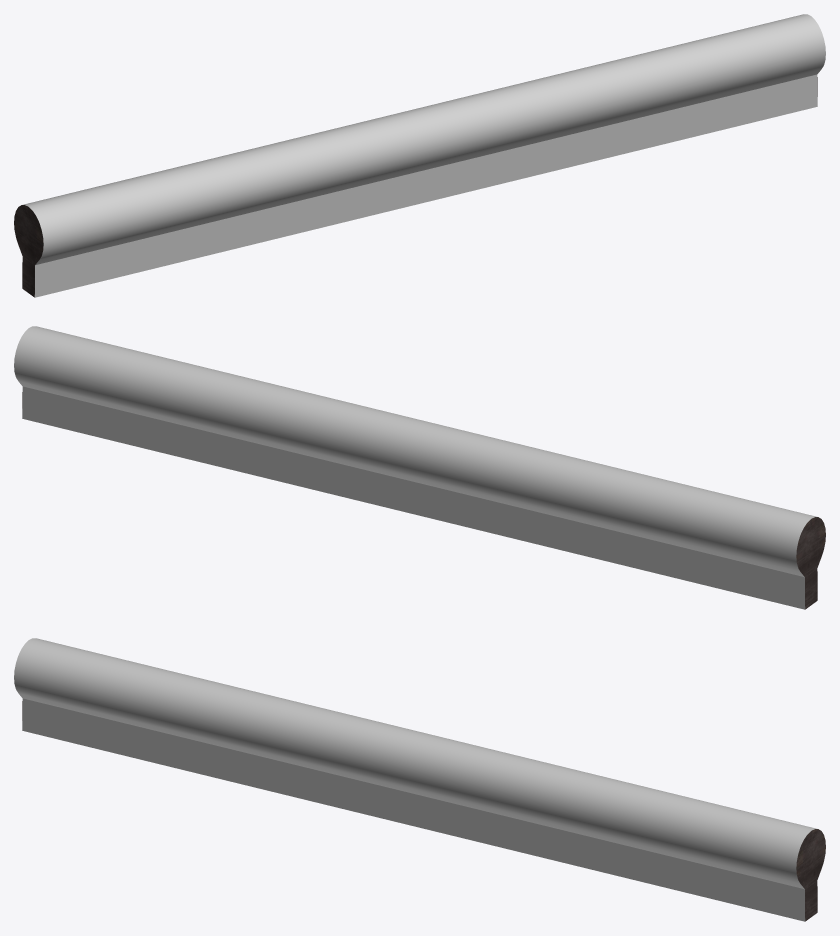
File: SM_Roof_Foundation_15.FBX
3 renders of one model, top to bottom at view 1: azimuth 30°, elevation 25°; view 2: azimuth 150°, elevation 25°; view 3: azimuth 330°, elevation 25°, orthographic.
Visible parts, largest first — view 1: SM_Roof_Foundation_15; view 2: SM_Roof_Foundation_15; view 3: SM_Roof_Foundation_15.
Part boxes in pixels (<box>): SM_Roof_Foundation_15: <box>14,14,825,297</box>; SM_Roof_Foundation_15: <box>14,326,825,609</box>; SM_Roof_Foundation_15: <box>14,638,825,921</box>.
Bounding box in the file's own units: 757 × 79.74 × 49.65.
